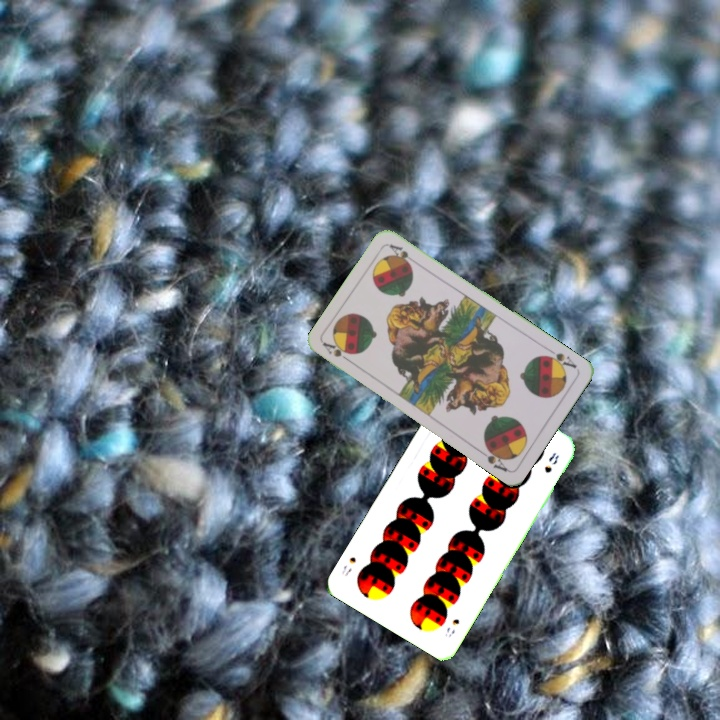S8: (441, 615, 462, 640)
SA: (540, 344, 580, 373), (319, 338, 356, 366)
